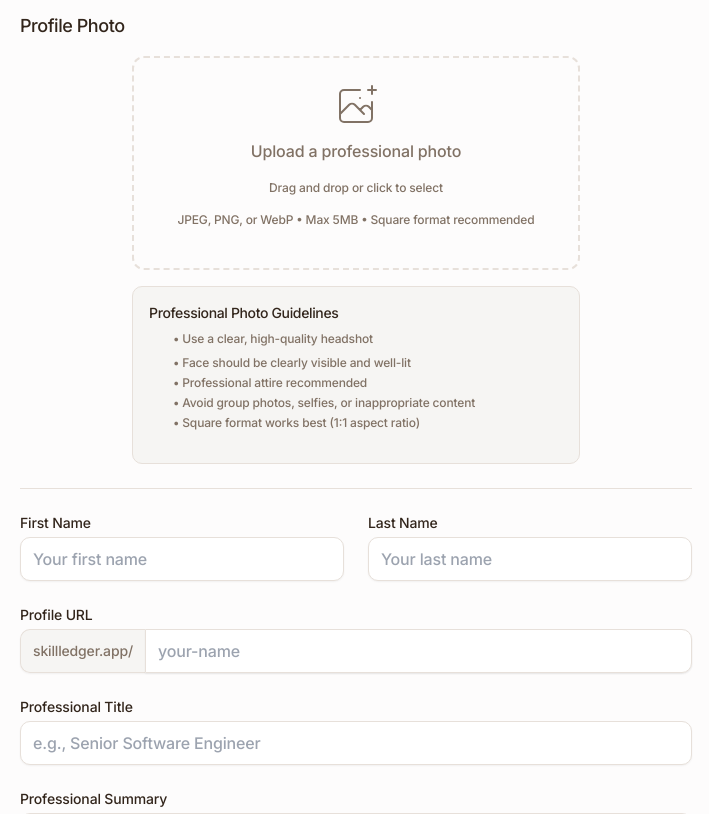
EnhancedProfileCreationForm › Slug Auto-Generation › should handle multiple spaces in slug generation
In the field labelled "First Name": (182, 559) [20,537,344,581], type "John   Paul"
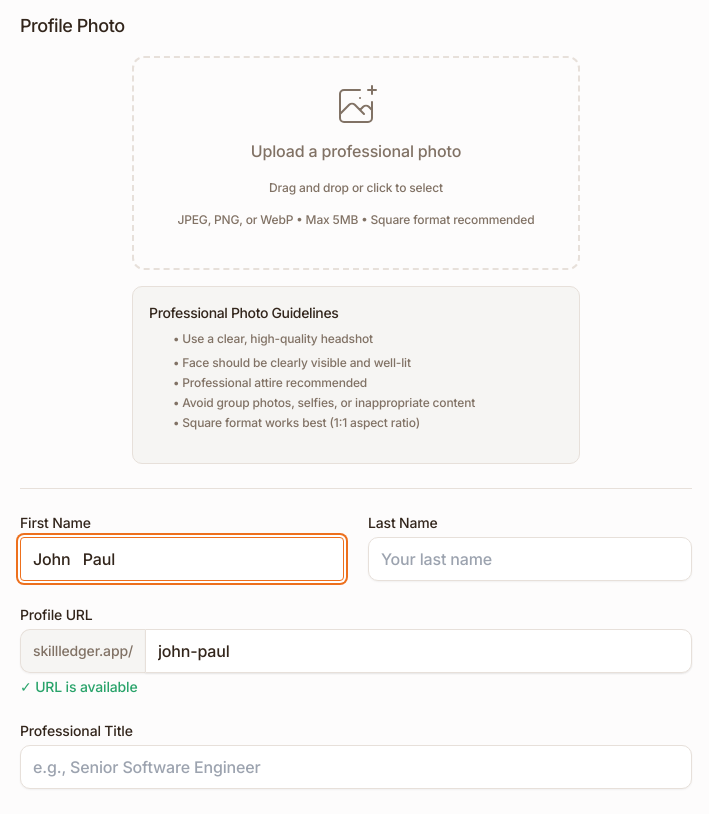
Result: the field labelled "Profile URL" holds "john-paul" at [145,629,692,673]
